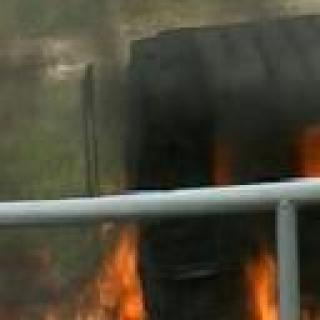fire: (205, 115, 320, 184), (81, 213, 144, 320), (239, 218, 300, 320)
